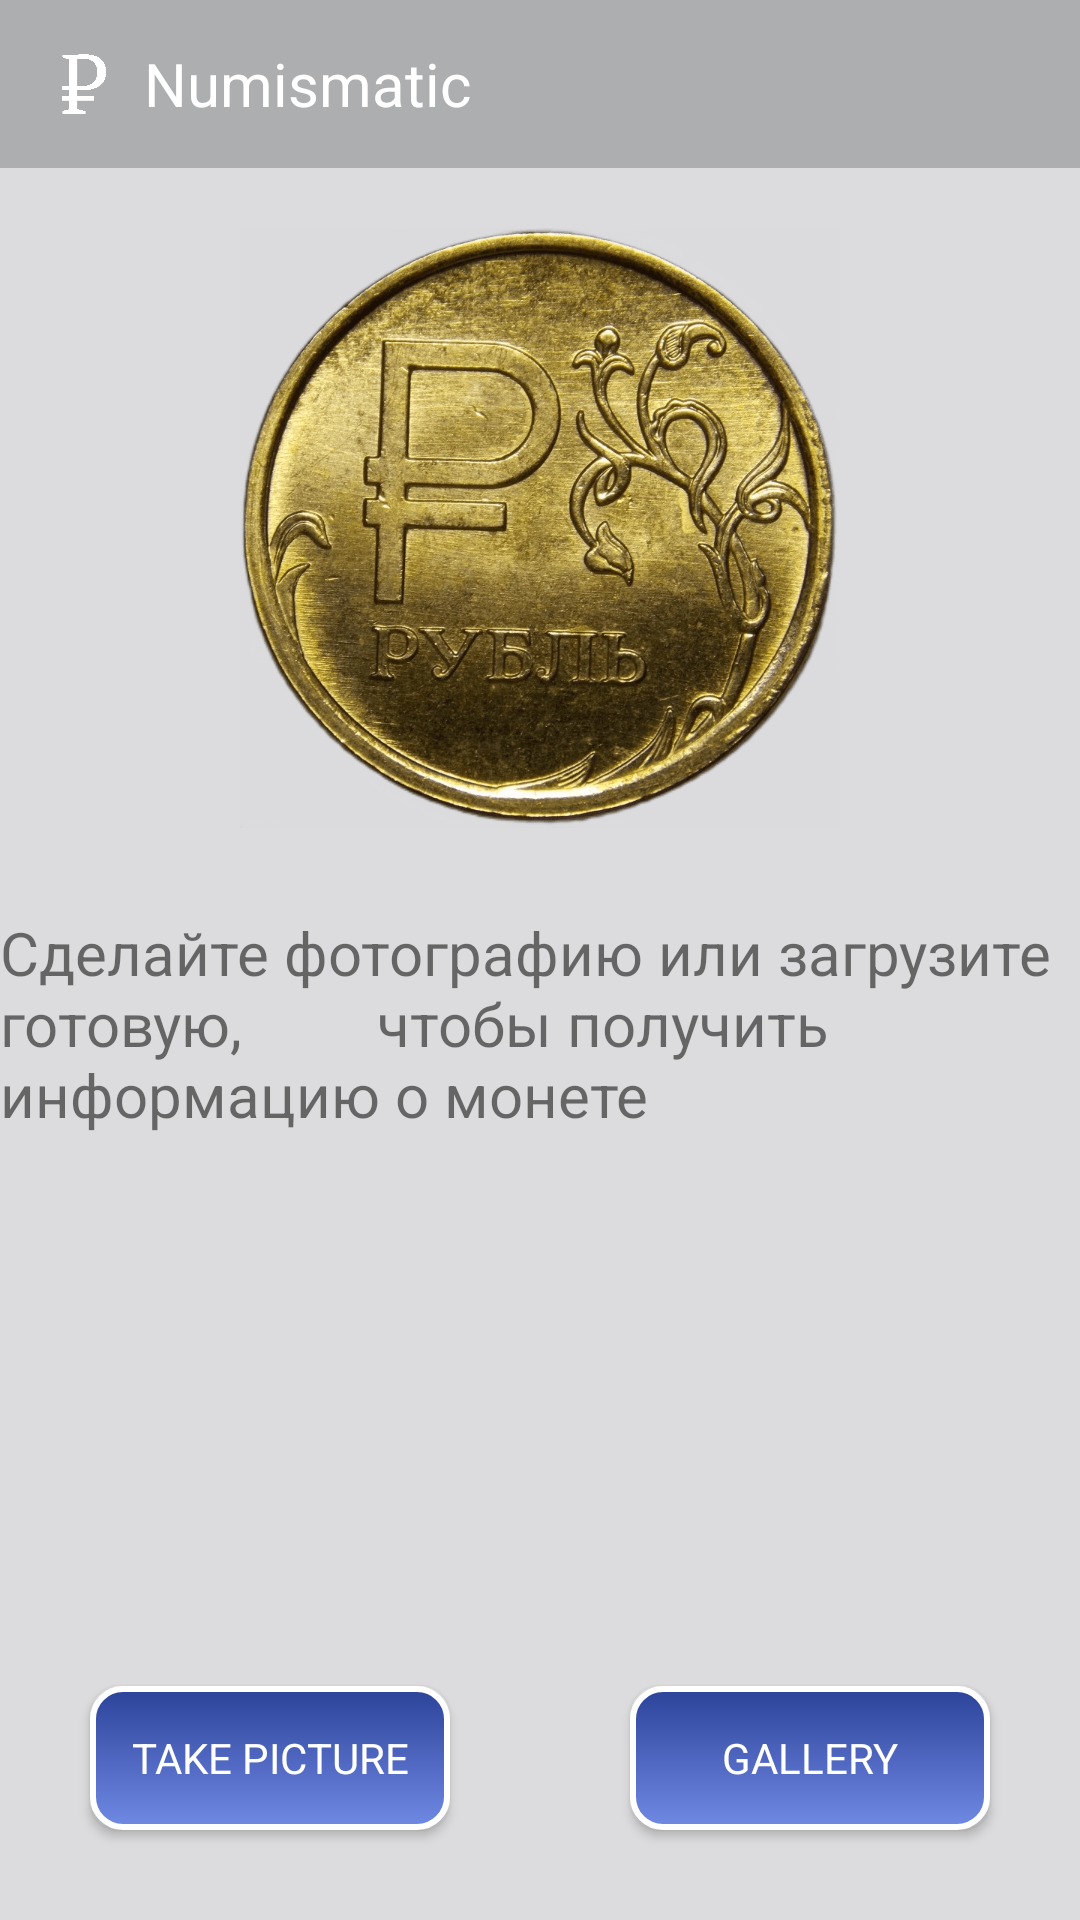

Point at icon controls on the screen. Image size 1080px x 1920px, points as (x=x, y=y).
ruble symbol: (x=84, y=84)
